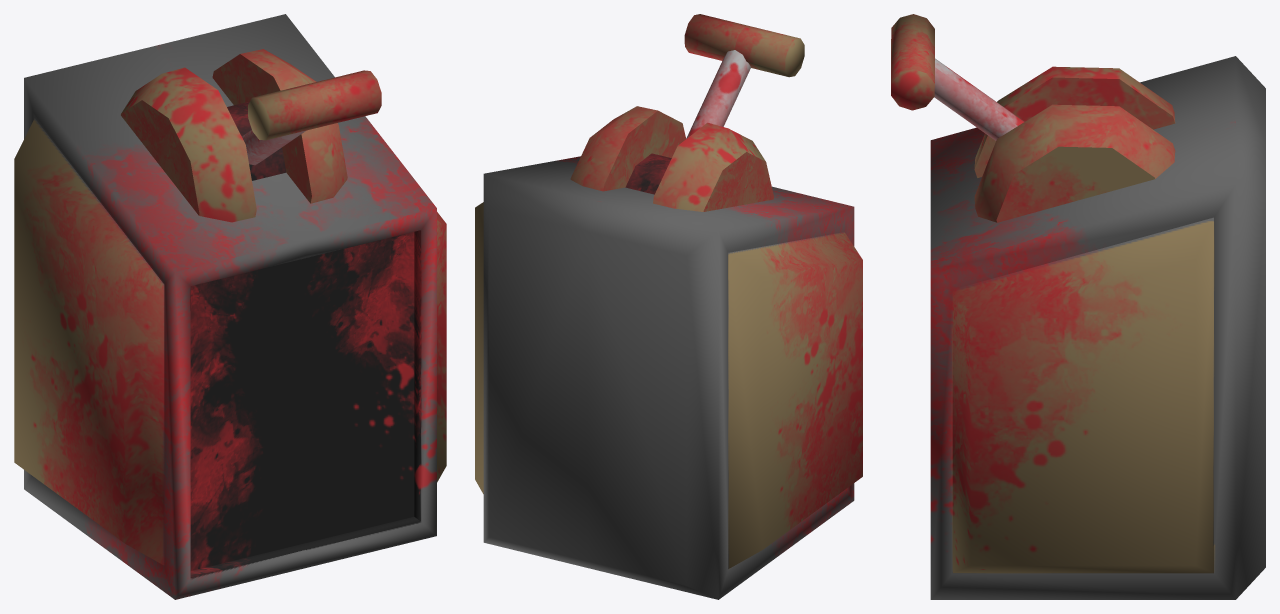
The model's file is switch1.fbx.
3 renders of one model, left to right at view 1: azimuth 30°, elevation 25°; view 2: azimuth 150°, elevation 25°; view 3: azimuth 270°, elevation 25°, orthographic. The views are drawn at different scales.
Visible parts, largest first — view 1: switch_1; view 2: switch_1; view 3: switch_1.
Part boxes in pixels (x1,y1,x2,y2): switch_1: (14, 14, 446, 599); switch_1: (475, 14, 862, 599); switch_1: (891, 14, 1265, 599).
Size of the model in its own units: 0.7735 by 1.13 by 0.7748.
Materials: 1 (1 with a texture image).
